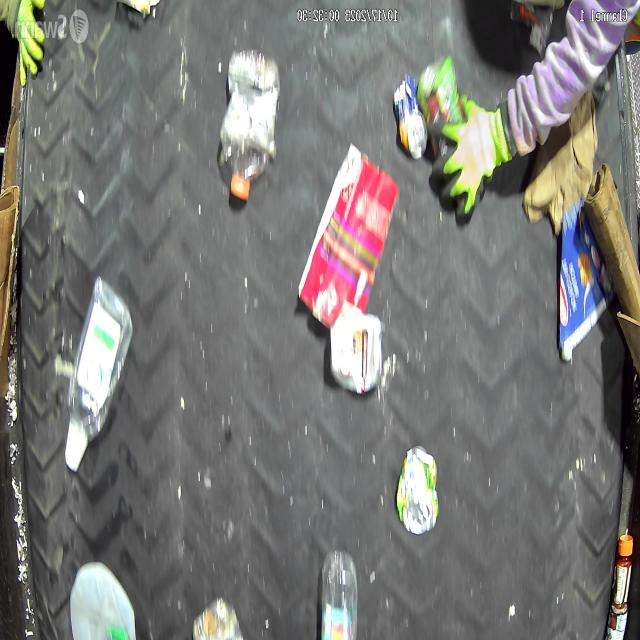can: (329, 302, 381, 394), (395, 444, 437, 538), (394, 73, 428, 161)
milk_jug: (70, 560, 136, 640)
plastic_bottle: (66, 275, 132, 473), (218, 50, 280, 203), (318, 548, 358, 640)
